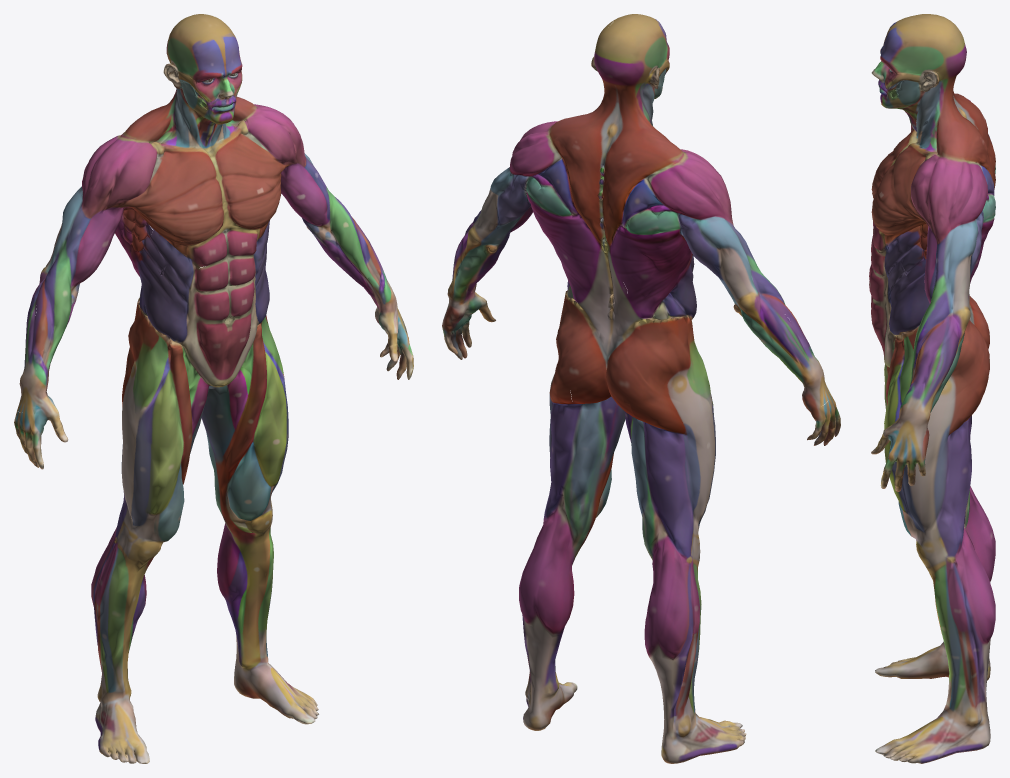
Rendered from derived-anatomy-body.glb.
3 views of the same model, side by side, from view 1: azimuth 30°, elevation 25°; view 2: azimuth 150°, elevation 25°; view 3: azimuth 270°, elevation 25° (orthographic).
Parts seen in each view (by area): view 1: derived-anatomy-body; view 2: derived-anatomy-body; view 3: derived-anatomy-body.
Part boxes in pixels (left/top/right/bottom): derived-anatomy-body: left=14, top=14, right=413, bottom=763; derived-anatomy-body: left=442, top=14, right=840, bottom=763; derived-anatomy-body: left=869, top=14, right=995, bottom=763.
Bounding box in the file's own units: 1.02 × 1.8 × 0.2963.
Materials: 1 (1 with a texture image).
